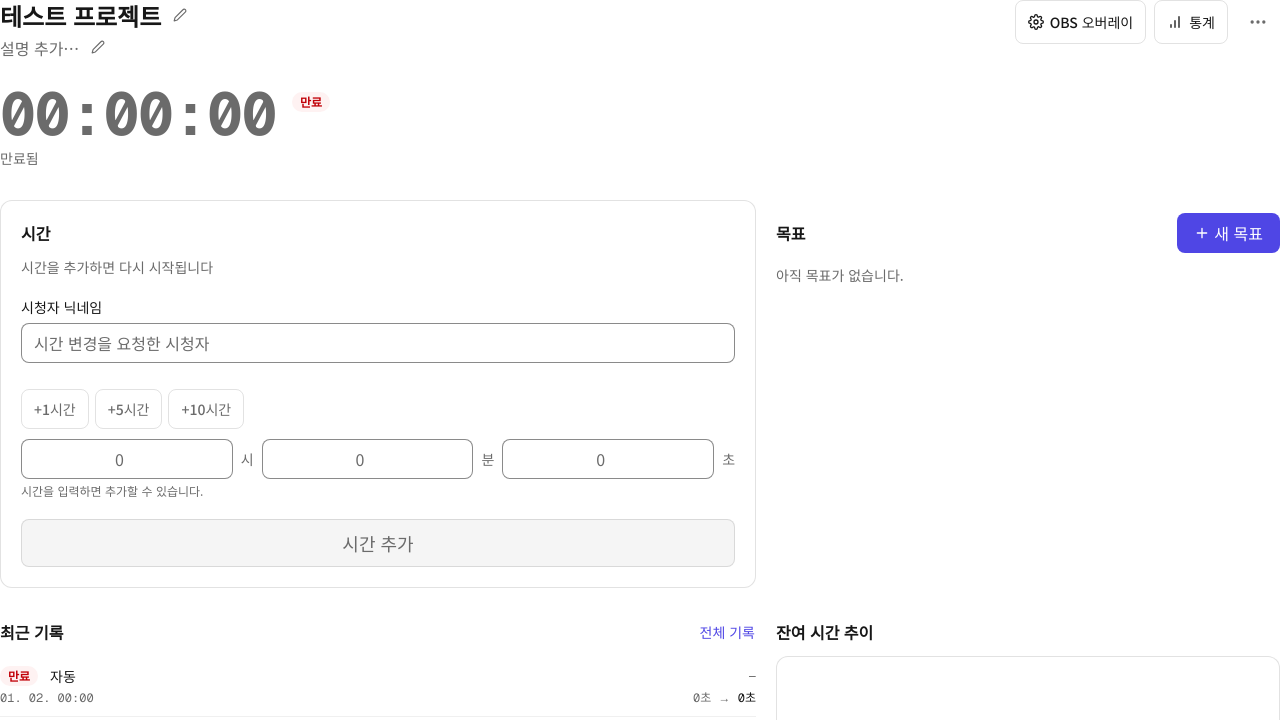
Scenario: 프로젝트 상세 목표 섹션 (UX-50) › 프로젝트 삭제 확인창은 결과를 말하고 버튼에 대상을 담는다
This screenshot has width=1280, height=720.
Click the button named "더보기".
click(1258, 22)  # box left=1236, top=0, right=1279, bottom=44
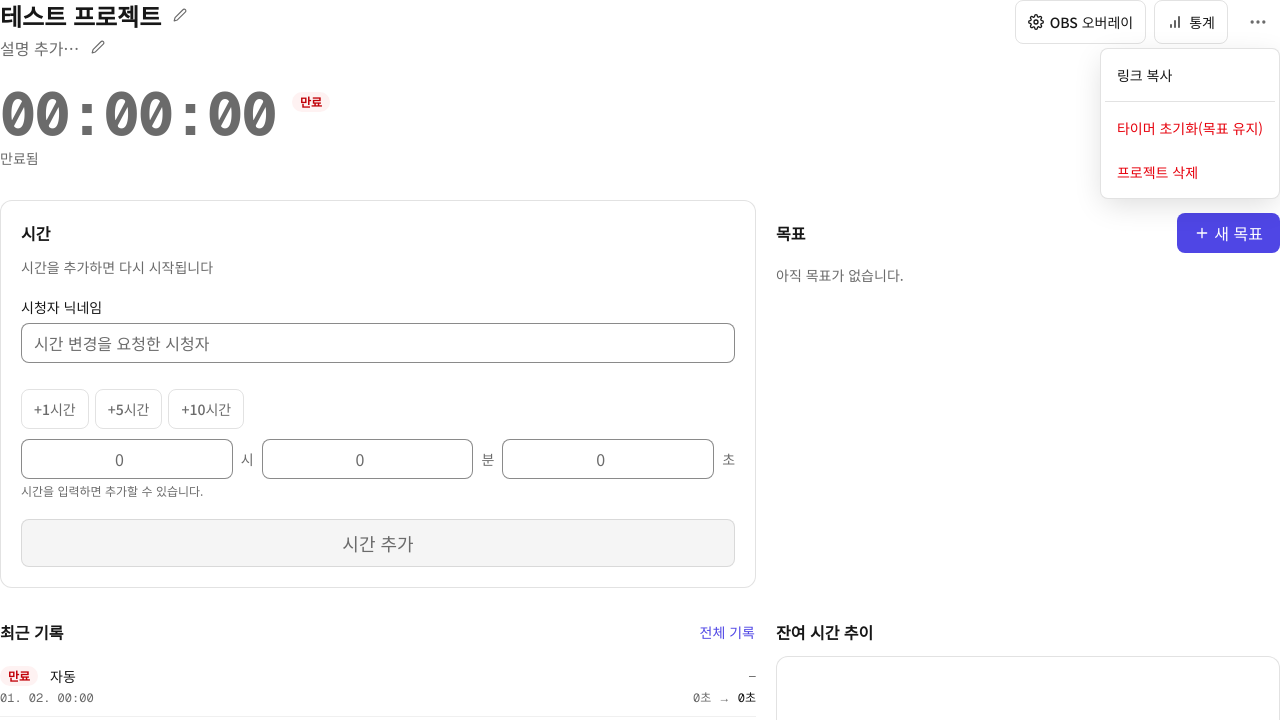
Click the button "프로젝트 삭제".
click(1190, 172)  # box left=1105, top=150, right=1275, bottom=194
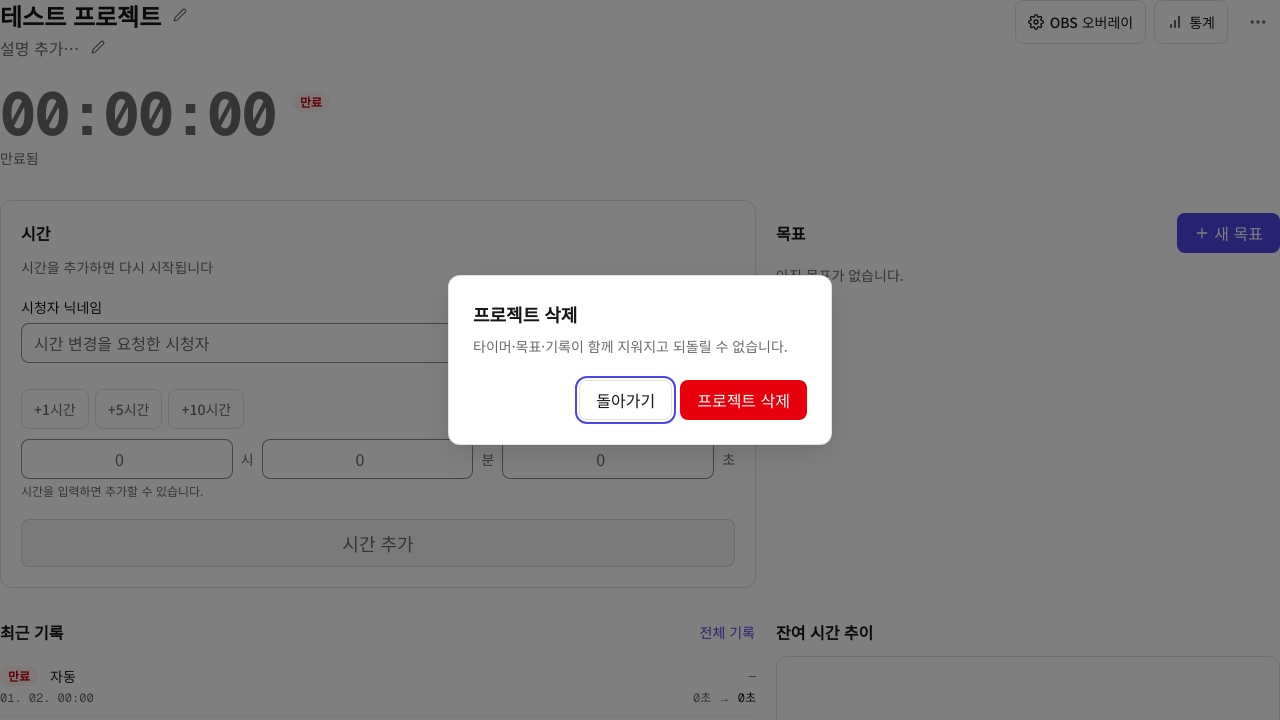
Now the dialog "프로젝트 삭제" shows "타이머·목표·기록이 함께 지워지고 되돌릴 수 없습니다.", box left=473, top=336, right=788, bottom=356
Now the button "프로젝트 삭제" is shown, box left=680, top=380, right=807, bottom=420
Now the button "돌아가기" is shown, box left=579, top=380, right=672, bottom=420
